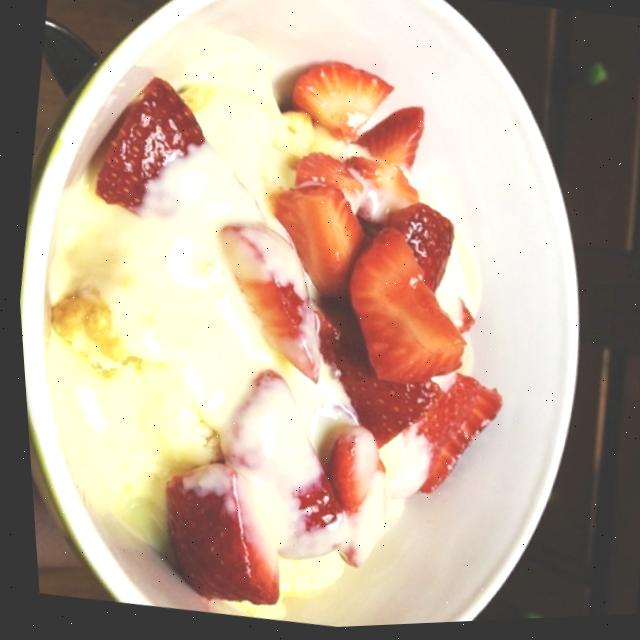蛋糕甜品: (0, 0, 578, 640)
